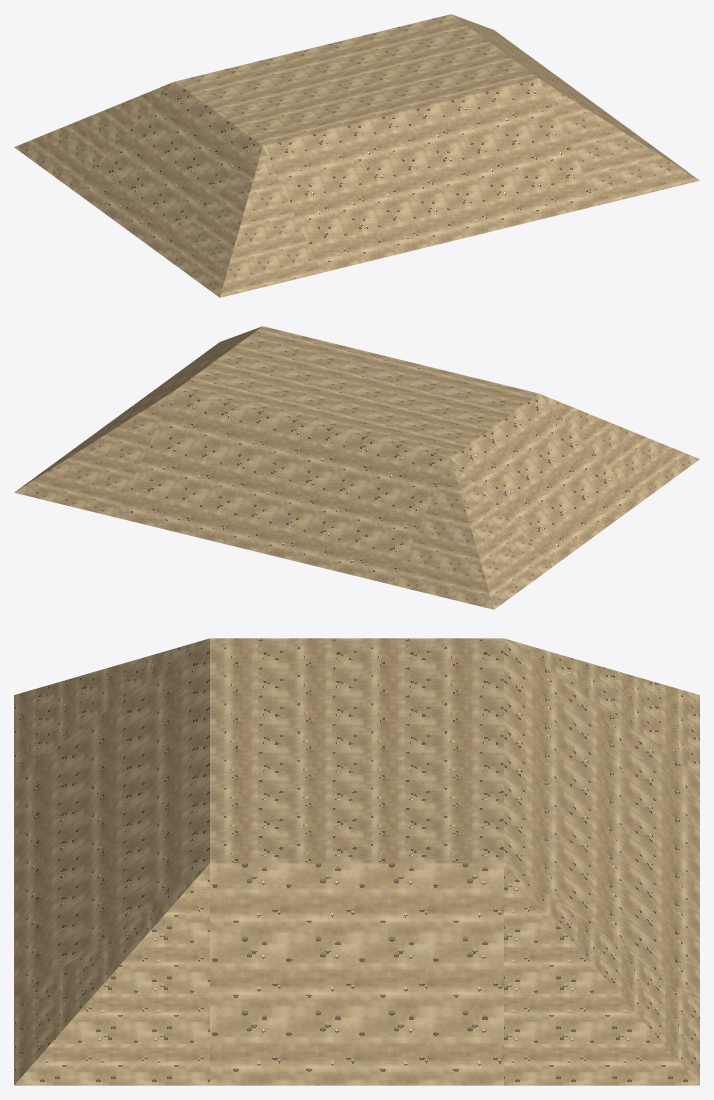
File: loma_estacion.obj
3 renders of one model, top to bottom at view 1: azimuth 30°, elevation 25°; view 2: azimuth 150°, elevation 25°; view 3: azimuth 270°, elevation 25°, orthographic. The views are drawn at different scales.
Parts seen in each view (by area): view 1: loma_estacion; view 2: loma_estacion; view 3: loma_estacion.
Boxes of the visible parts, box(x1,y1,x2,y2) form: loma_estacion: box(14, 14, 699, 297); loma_estacion: box(14, 326, 699, 609); loma_estacion: box(14, 638, 699, 1085).
Size of the model in its own units: 66 by 11 by 49.
Materials: 1 (1 with a texture image).
